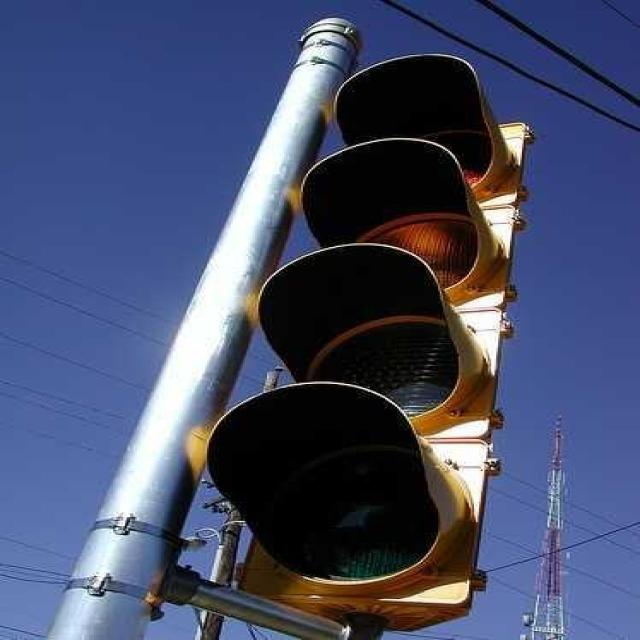Traffic Light -Red-: (205, 45, 512, 624)
